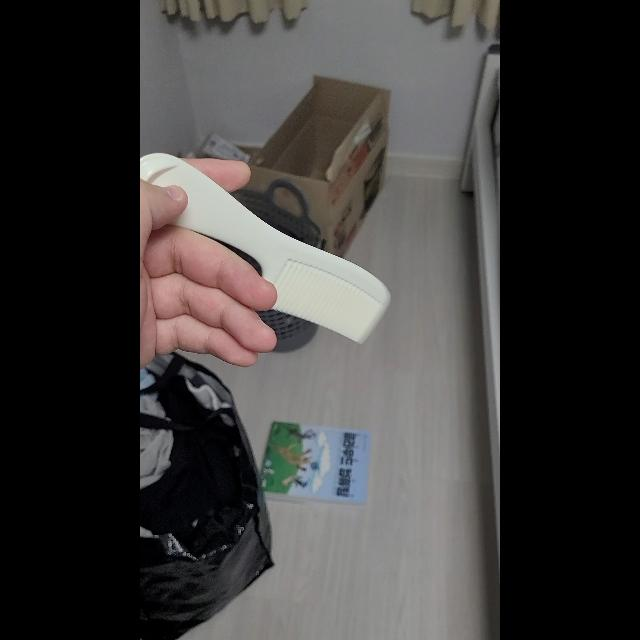COMB: (140, 152, 392, 344)
